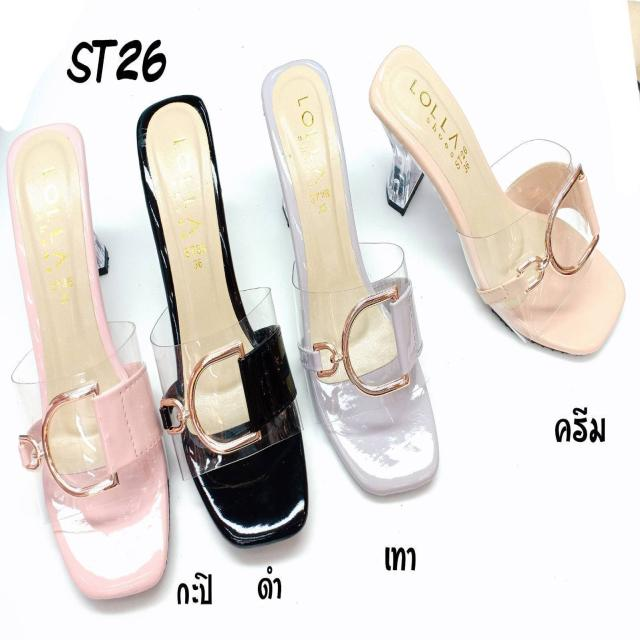black: (142, 103, 312, 540)
cream: (370, 42, 620, 360)
grey: (266, 63, 436, 488)
kapi: (11, 139, 170, 603)
